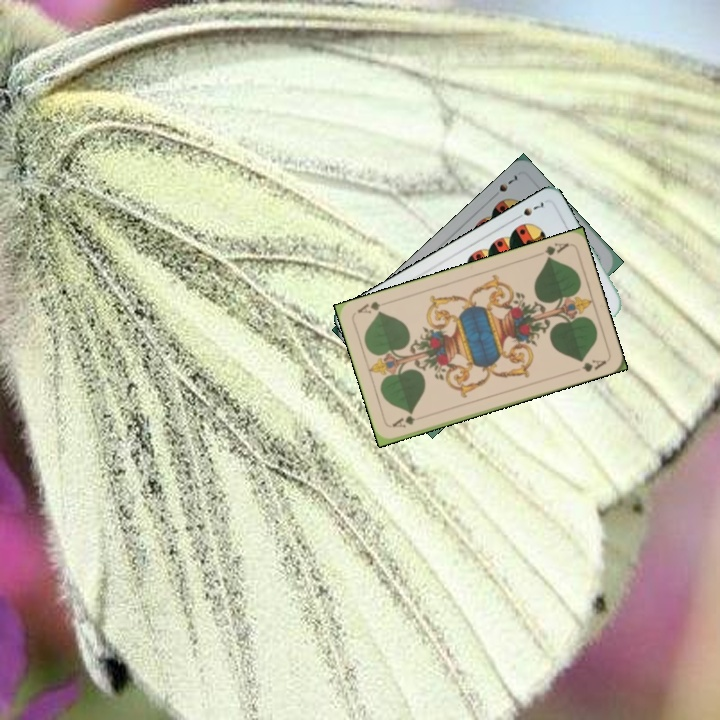GA: (540, 239, 571, 263), (388, 411, 418, 430)
S7: (510, 197, 548, 223), (495, 171, 522, 195)
